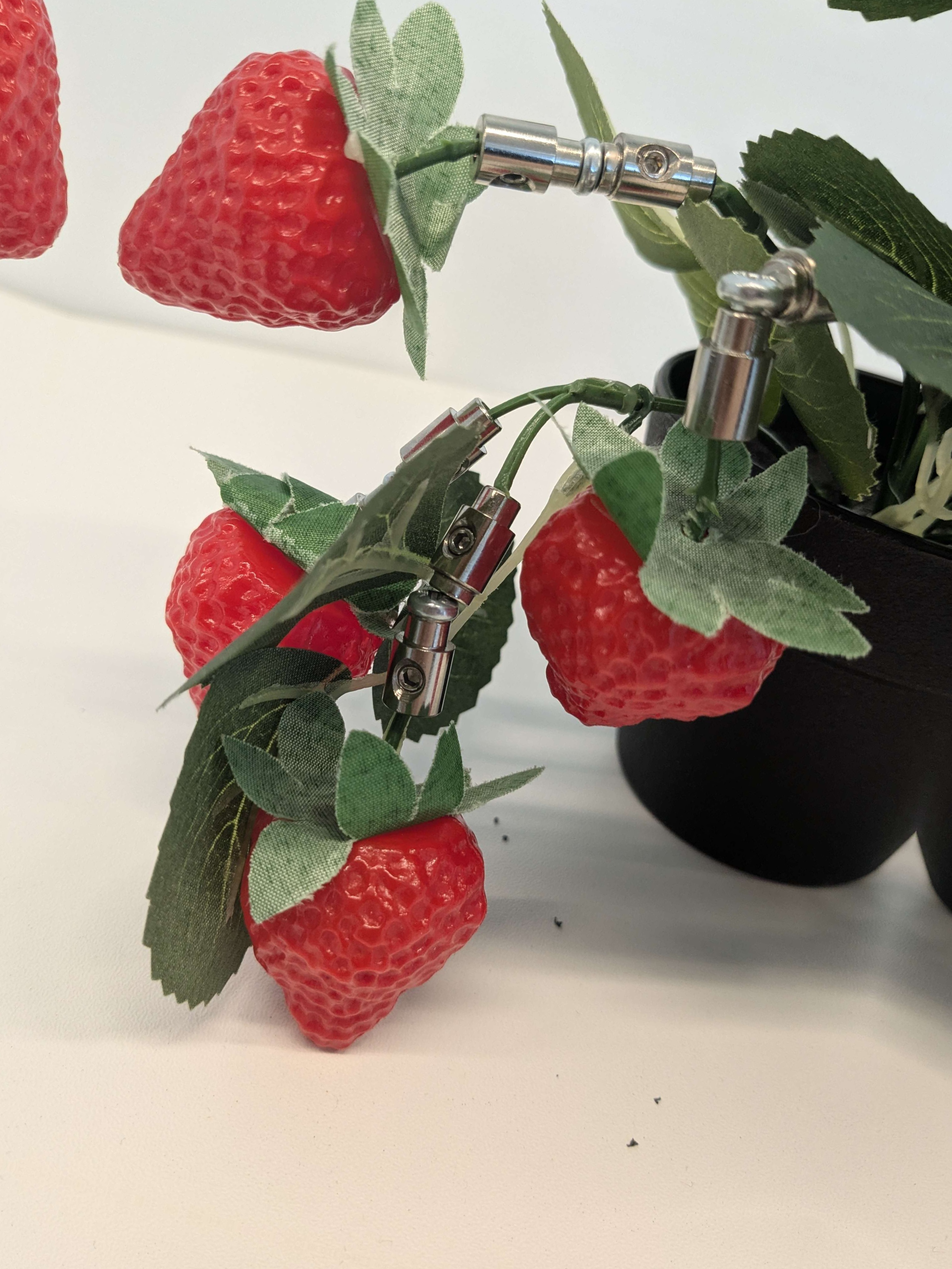Strawberry: (456, 404, 870, 811), (76, 0, 478, 383), (113, 405, 450, 767), (182, 763, 523, 1098)
